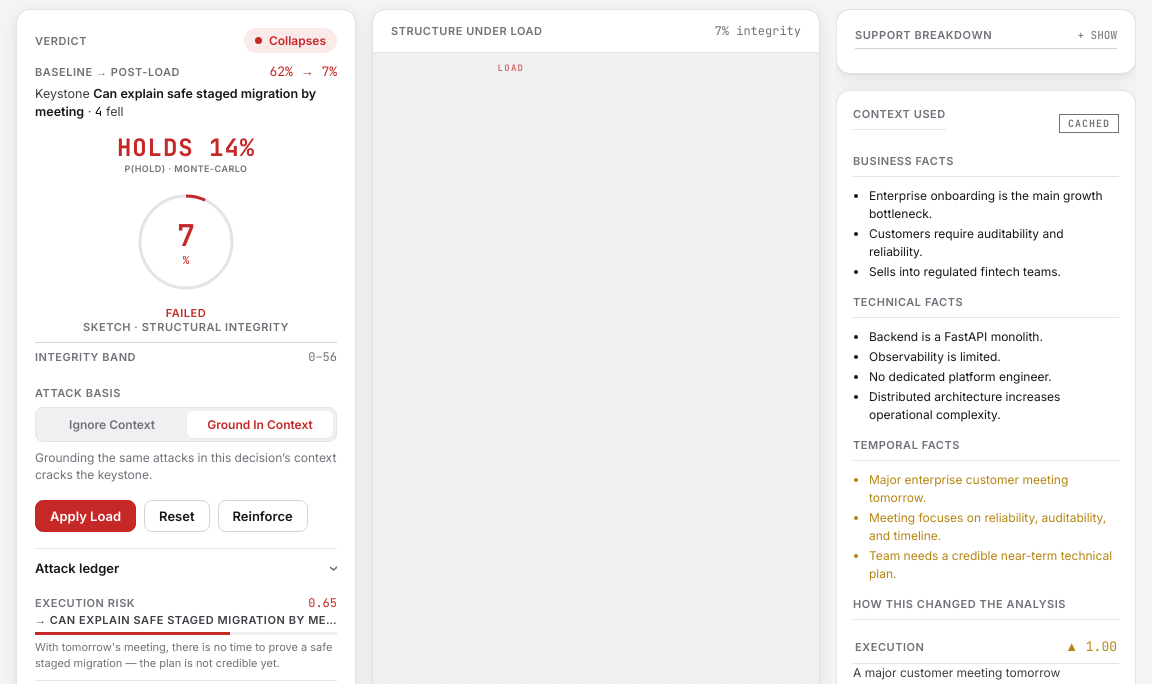
Test: StressTab (R4) › renders the DE-RISKING PLAN panel after reinforce with PROVE + integrity rows
This screenshot has width=1152, height=684.
// Click REINFORCE → the store computes a plan and the panel appears.
Click the button "Reinforce".
click(263, 516)  # box x1=218 y1=500 x2=308 y2=532
(page scrolled)
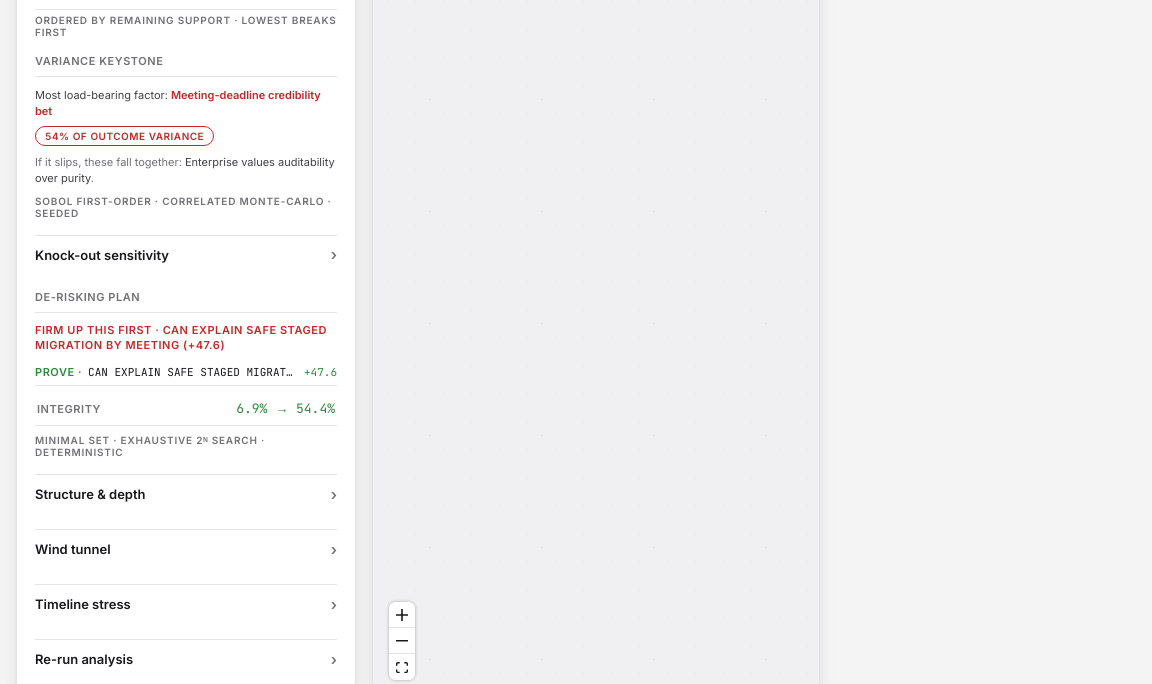
expect the element with test id "derisking-plan" is shown: met, box x1=35 y1=290 x2=337 y2=458
expect the element with test id "derisking-plan" shows "INTEGRITY": met, box x1=37 y1=402 x2=101 y2=416
expect the element with test id "derisking-plan" shows "→": met, box x1=236 y1=400 x2=335 y2=417
